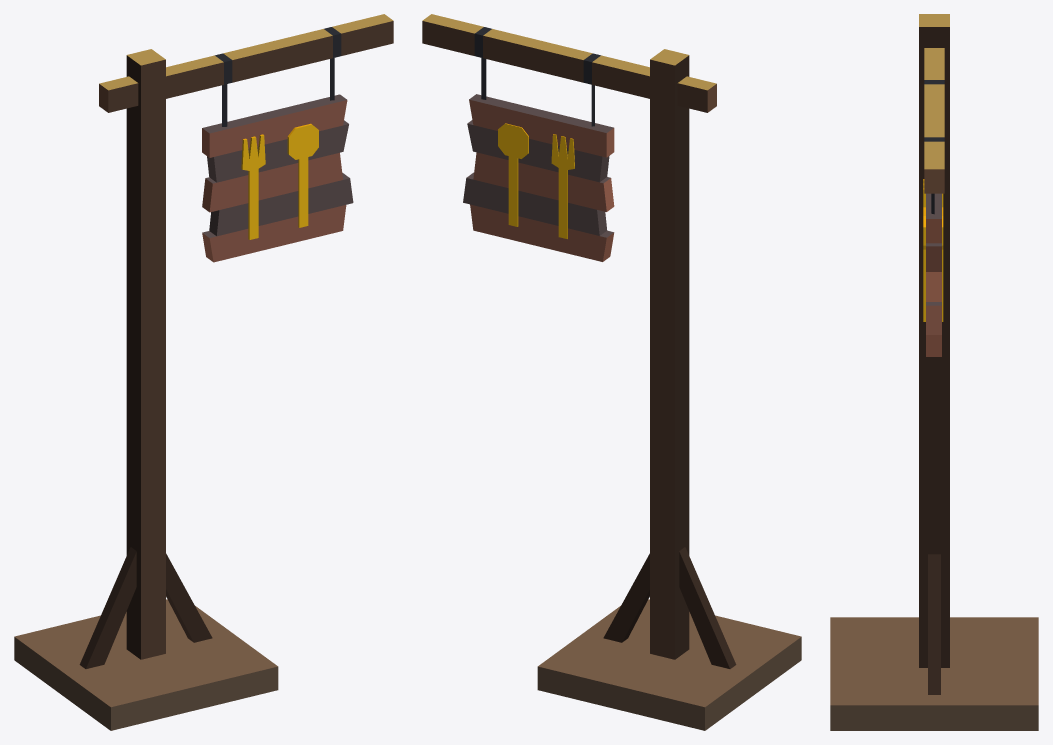
File: TB_D_Prop_Sign_Store_Rest_B.FBX
3 renders of one model, left to right at view 1: azimuth 30°, elevation 25°; view 2: azimuth 150°, elevation 25°; view 3: azimuth 270°, elevation 25°, orthographic. The views are drawn at different scales.
Parts seen in each view (by area): view 1: TB_D_Prop_Sign_Store_Rest_B; view 2: TB_D_Prop_Sign_Store_Rest_B; view 3: TB_D_Prop_Sign_Store_Rest_B.
Part boxes in pixels (x1,y1,x2,y2): TB_D_Prop_Sign_Store_Rest_B: (14,14,393,730); TB_D_Prop_Sign_Store_Rest_B: (422,14,801,730); TB_D_Prop_Sign_Store_Rest_B: (830,14,1038,730).
Size of the model in its own units: 1.57 by 2.84 by 0.8046.
